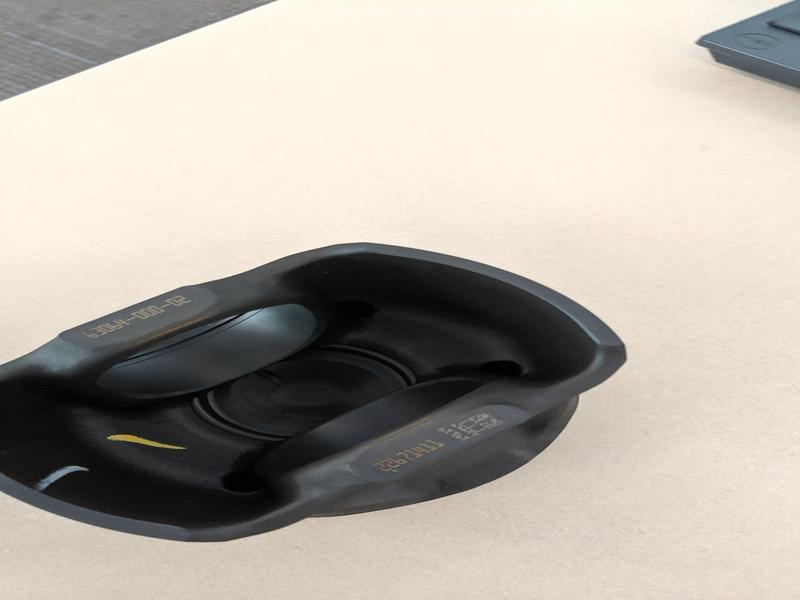piston: (1, 236, 632, 547)
